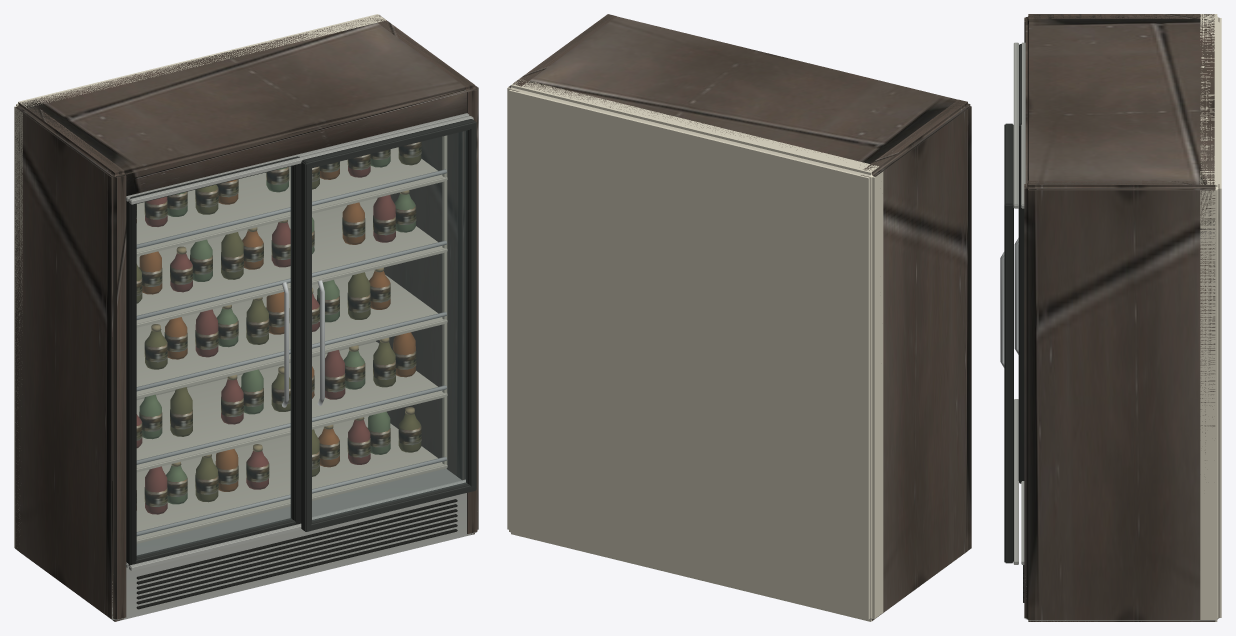
File: grocery-cooler.glb
3 views of the same model, side by side, from view 1: azimuth 30°, elevation 25°; view 2: azimuth 150°, elevation 25°; view 3: azimuth 270°, elevation 25° (orthographic). The views are drawn at different scales.
Visible parts, largest first — view 1: Frame, RightDoor, LeftDoor; view 2: Frame; view 3: Frame, RightDoor, LeftDoor.
Boxes of the visible parts, left/top/right/bottom form: Frame: left=14, top=14, right=478, bottom=621; RightDoor: left=301, top=119, right=476, bottom=531; LeftDoor: left=126, top=156, right=301, bottom=565; Frame: left=507, top=14, right=971, bottom=621; Frame: left=1013, top=14, right=1221, bottom=621; RightDoor: left=1000, top=123, right=1013, bottom=563; LeftDoor: left=1014, top=44, right=1024, bottom=483.
Bounding box in the file's own units: 1.78 × 2.08 × 0.9535.
14 materials, 2 textured.
